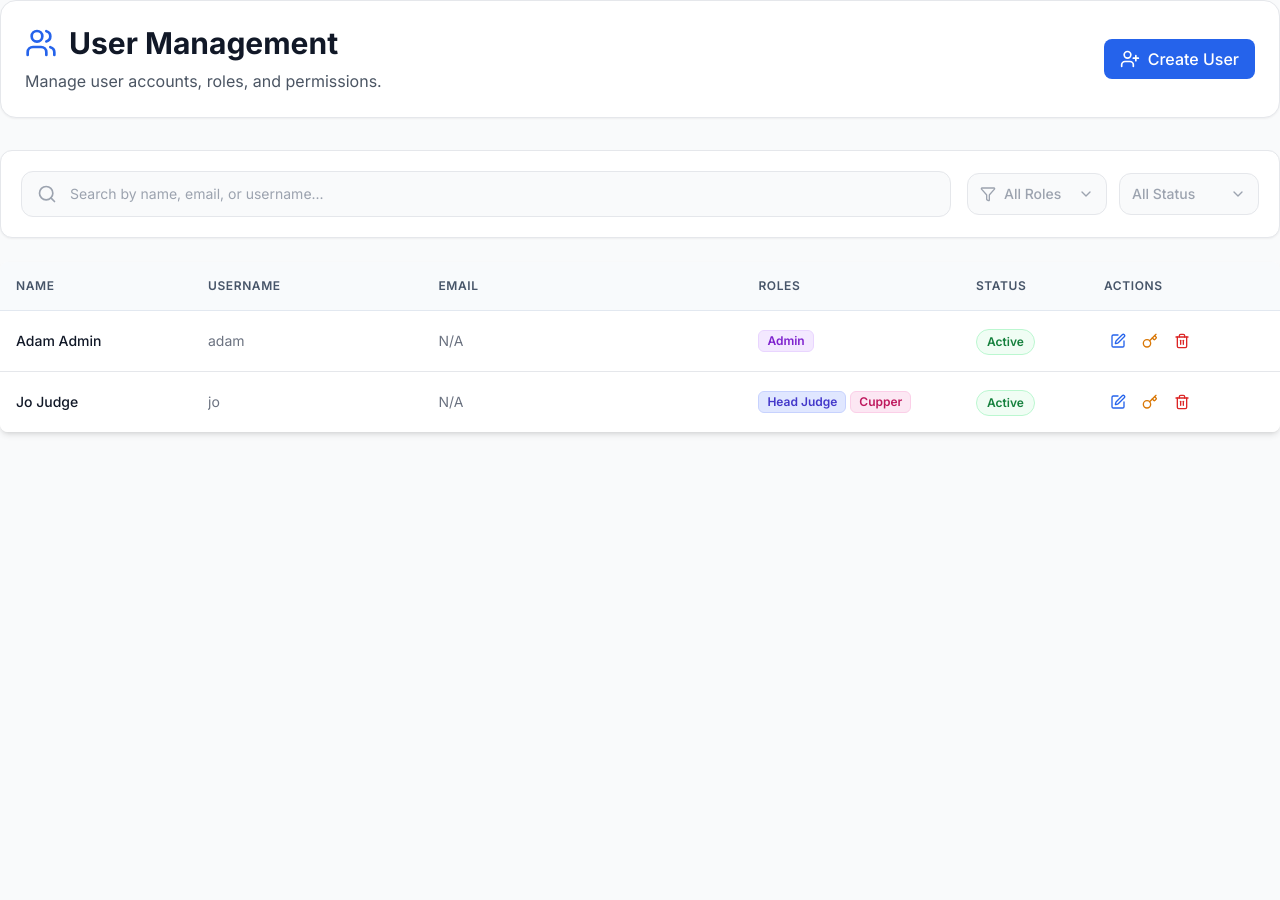
User Management delete › asks in the site popup, waits on it, then reloads the list
Click the button named "Delete user" in the row of "Jo Judge".
click(1182, 402)  # box [1168, 388, 1196, 416]
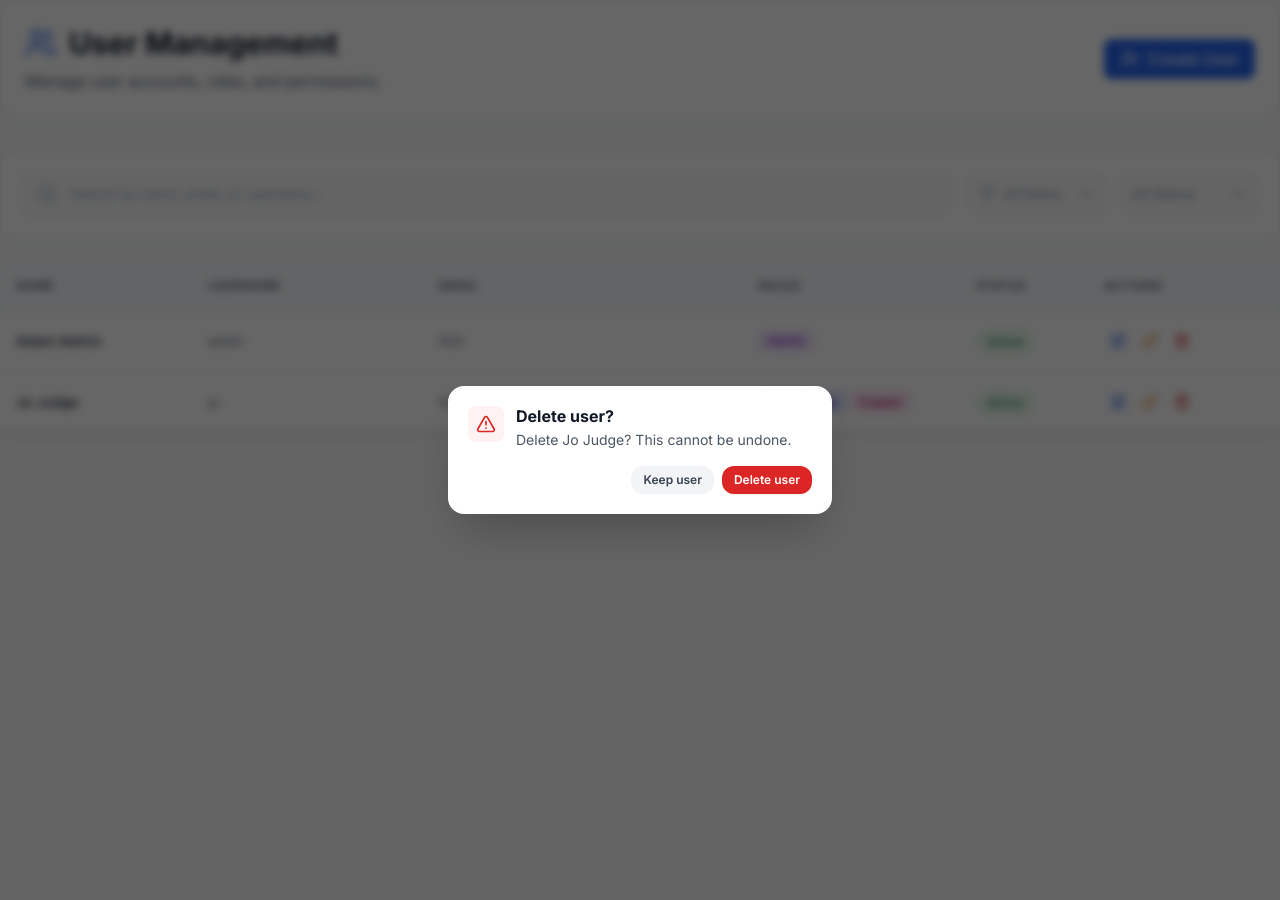
Result: the dialog "Delete user?" shows "Delete Jo Judge? This cannot be undone." at [516, 431, 792, 448]
Click the button "Delete user".
click(767, 480)  # box [722, 466, 812, 494]
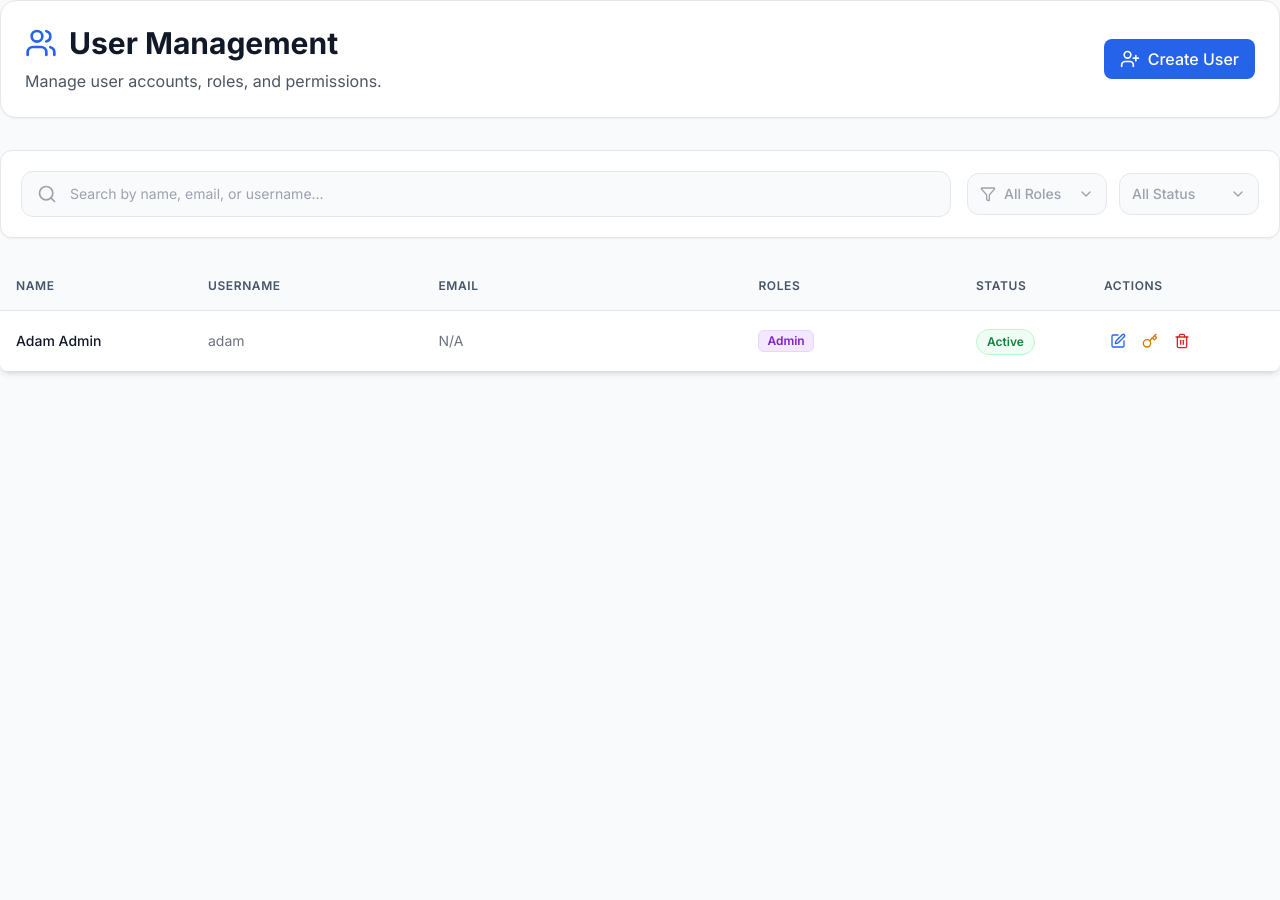
Result: the text "Jo Judge" is gone
Result: the dialog is gone
